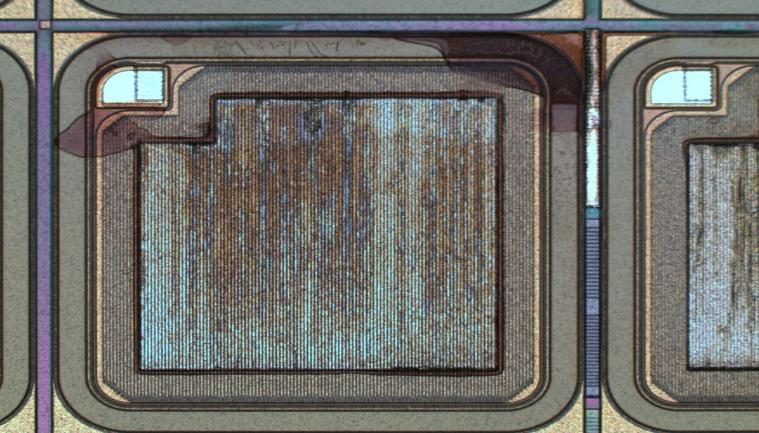SEZ BURNT: (135, 92, 759, 377)
